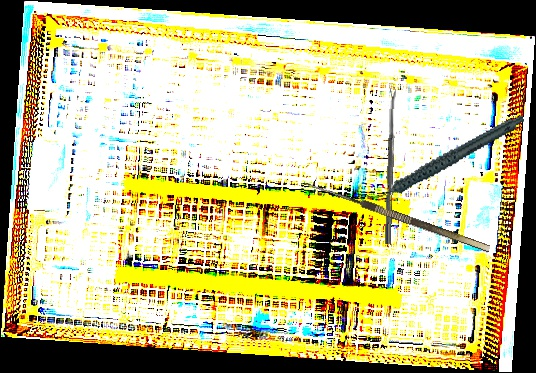Handpiece: (357, 114, 534, 203)
Hook Surgical: (299, 178, 491, 263)
Surgical Spoon: (384, 88, 398, 245)
